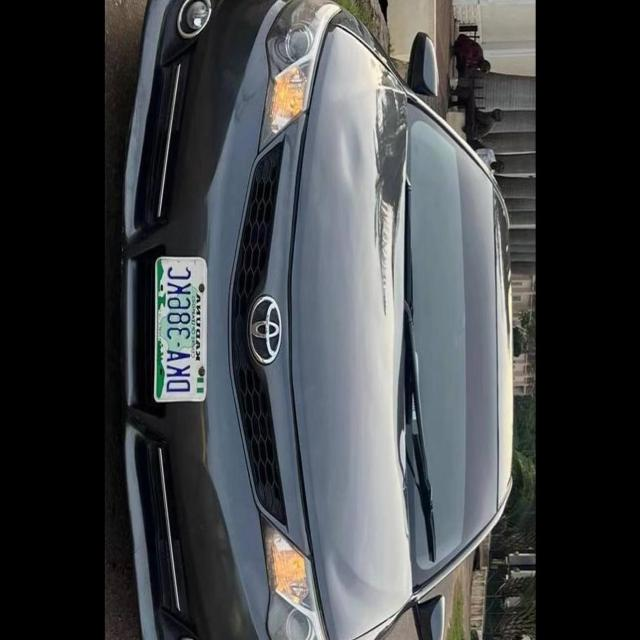Nigerian License Plate - vdataset benjamin-daria: (152, 252, 209, 406)
